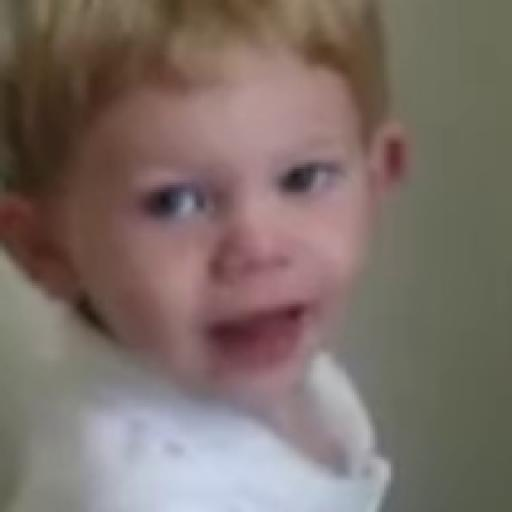Autism: (5, 0, 409, 409)
